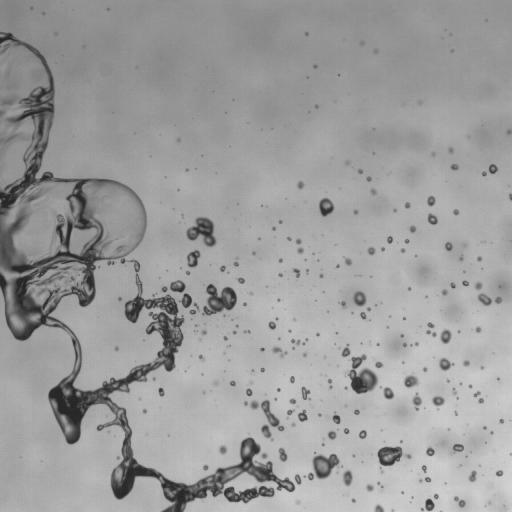droplet: (345, 354, 378, 394), (202, 284, 236, 315), (306, 453, 341, 479), (187, 217, 216, 247), (376, 446, 411, 466), (319, 198, 334, 216), (187, 250, 200, 267), (353, 291, 366, 306), (404, 374, 418, 387), (421, 498, 434, 511), (478, 293, 492, 305), (439, 358, 453, 370), (440, 329, 451, 343), (412, 393, 421, 409), (432, 396, 444, 408), (426, 322, 436, 336), (343, 470, 352, 485), (383, 387, 394, 399), (454, 496, 465, 507), (278, 448, 287, 461), (427, 213, 437, 224), (341, 345, 350, 357), (301, 386, 309, 399), (298, 410, 307, 421), (452, 444, 463, 452), (468, 470, 476, 481), (427, 196, 435, 206), (332, 413, 340, 423), (489, 164, 497, 173), (327, 431, 336, 439), (219, 445, 227, 454), (426, 447, 434, 456), (374, 504, 384, 511), (358, 430, 366, 438), (293, 268, 300, 277), (291, 339, 301, 345), (445, 242, 452, 250), (344, 257, 351, 265), (268, 321, 275, 329), (286, 409, 293, 417), (368, 247, 375, 254), (475, 282, 482, 289), (366, 484, 373, 491), (297, 181, 303, 189), (158, 388, 164, 396), (246, 388, 252, 396), (451, 164, 458, 170), (387, 236, 393, 243), (237, 277, 244, 283), (360, 312, 366, 319), (375, 361, 382, 367), (289, 398, 296, 404), (496, 470, 503, 476), (297, 247, 303, 253), (495, 297, 501, 303), (475, 326, 481, 332), (463, 360, 469, 366), (410, 225, 415, 232), (340, 301, 345, 308), (452, 388, 456, 396), (448, 147, 453, 153), (405, 202, 410, 208), (296, 238, 301, 244), (220, 265, 225, 271), (462, 280, 468, 285), (450, 282, 455, 288), (442, 289, 447, 295), (199, 355, 204, 361), (473, 391, 479, 396), (424, 477, 430, 482), (290, 376, 294, 383), (422, 465, 426, 472), (371, 189, 376, 194), (453, 209, 458, 214), (201, 330, 206, 335), (230, 381, 235, 386), (478, 398, 483, 403), (344, 428, 349, 433), (203, 465, 208, 470), (404, 239, 409, 243), (400, 248, 405, 252), (477, 256, 481, 261), (328, 379, 332, 384), (354, 410, 359, 414), (434, 494, 438, 499), (244, 330, 250, 333), (507, 129, 511, 133), (358, 169, 362, 173), (482, 172, 486, 176), (367, 177, 371, 181), (234, 262, 238, 266), (223, 336, 227, 340), (423, 367, 427, 371), (260, 368, 264, 372), (214, 381, 218, 385), (142, 409, 146, 413), (499, 419, 503, 423), (377, 482, 381, 486), (351, 498, 355, 502), (296, 500, 300, 504), (279, 258, 282, 262), (414, 342, 418, 345), (374, 50, 377, 53), (346, 161, 349, 164), (354, 210, 357, 213), (287, 237, 290, 240), (33, 252, 36, 255), (186, 271, 189, 274), (367, 307, 370, 310), (304, 339, 307, 342), (403, 343, 406, 346), (115, 347, 118, 350), (261, 348, 264, 351), (468, 385, 471, 388), (277, 388, 280, 391), (318, 413, 321, 416), (292, 423, 295, 426), (460, 256, 462, 260), (314, 65, 316, 68), (393, 209, 396, 211), (279, 220, 281, 223), (272, 227, 275, 229), (381, 248, 384, 250), (252, 252, 255, 254), (279, 273, 281, 276), (320, 274, 322, 277), (118, 298, 121, 300), (243, 303, 246, 305), (316, 333, 319, 335), (303, 353, 305, 356), (329, 386, 332, 388), (454, 412, 457, 414), (483, 426, 485, 429), (490, 431, 493, 433), (419, 479, 422, 481), (315, 105, 317, 107), (337, 265, 339, 267), (408, 287, 410, 289), (233, 331, 235, 333), (376, 343, 378, 345), (481, 366, 483, 368), (345, 387, 347, 389), (275, 398, 277, 400)
ligament: (0, 32, 301, 511), (244, 399, 283, 440), (272, 346, 287, 356), (130, 259, 139, 272), (5, 83, 17, 89), (509, 193, 511, 200), (391, 510, 394, 511)
